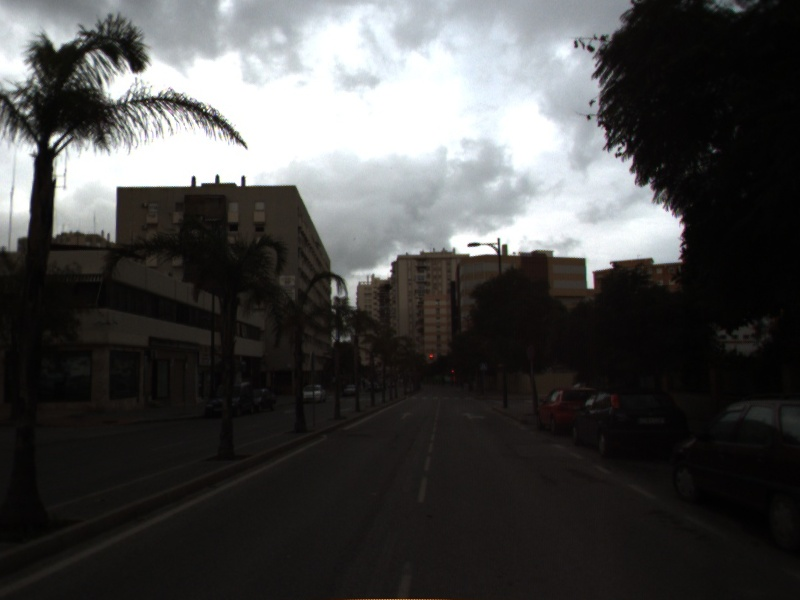STRAIGHT: (398, 410, 415, 421)
STRAIGHT_RIGHT: (460, 410, 488, 421)
